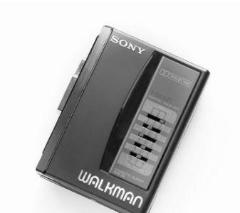electronic: (34, 25, 209, 213)
